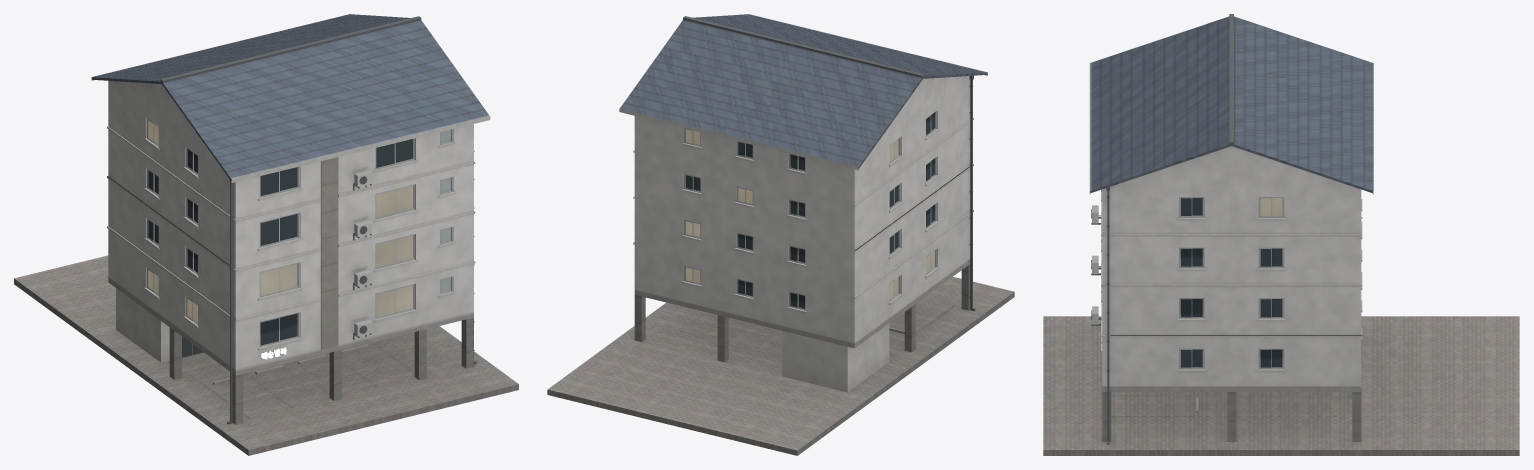
File: IlsanVilla01_LOD1.fbx
3 views of the same model, side by side, from view 1: azimuth 30°, elevation 25°; view 2: azimuth 150°, elevation 25°; view 3: azimuth 270°, elevation 25° (orthographic). The views are drawn at different scales.
Visible parts, largest first — view 1: IlsanVilla01_LOD1; view 2: IlsanVilla01_LOD1; view 3: IlsanVilla01_LOD1.
Boxes of the visible parts, x1,y1,x2,y2 form: IlsanVilla01_LOD1: (14, 14, 518, 455); IlsanVilla01_LOD1: (547, 14, 1014, 455); IlsanVilla01_LOD1: (1043, 14, 1519, 455).
Size of the model in its own units: 15.9 by 17.23 by 23.9.
1 material, 1 textured.
